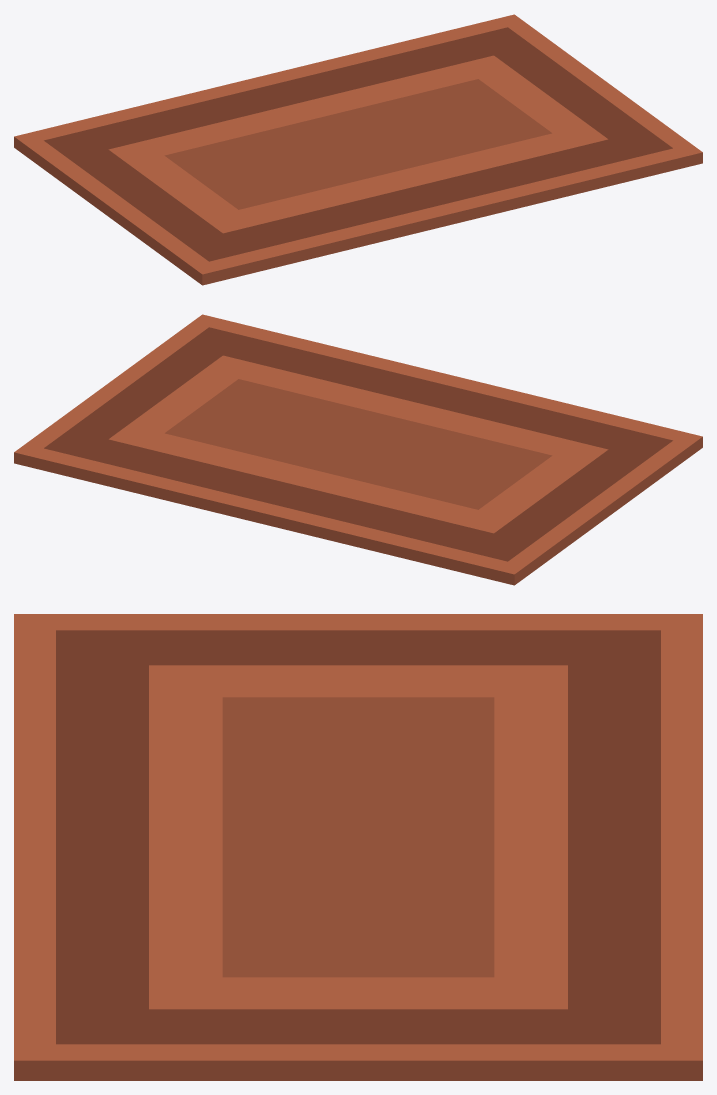
Rendered from Carpet2.glb.
The picture shows the model from 3 angles, top to bottom: view 1: azimuth 30°, elevation 25°; view 2: azimuth 150°, elevation 25°; view 3: azimuth 270°, elevation 25°; orthographic projection. The views are drawn at different scales.
Visible parts, largest first — view 1: SO_Rug_02; view 2: SO_Rug_02; view 3: SO_Rug_02.
Boxes of the visible parts, box(x1,y1,x2,y2) form: SO_Rug_02: box(14, 14, 702, 285); SO_Rug_02: box(14, 314, 702, 585); SO_Rug_02: box(14, 614, 702, 1080).
Bounding box in the file's own units: 0.0479 × 0.00101 × 0.0313.
Materials: 1 (1 with a texture image).
